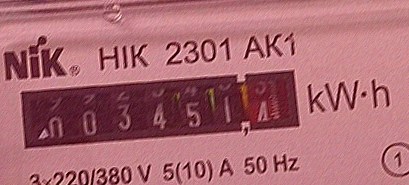0: (43, 110, 66, 140), (77, 106, 100, 136)
1: (217, 91, 236, 124)
3: (112, 99, 134, 132)
4: (146, 99, 170, 133), (249, 96, 273, 126)
5: (182, 96, 203, 129)
screen: (10, 51, 307, 168)
